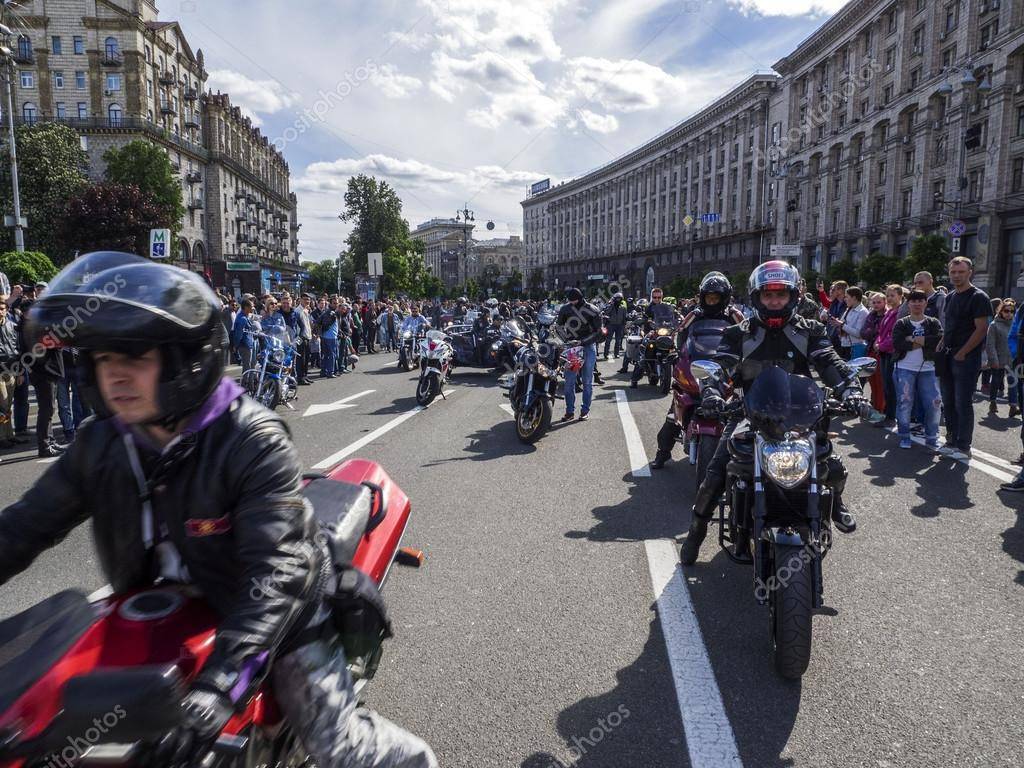helmet: (68, 271, 223, 395), (744, 263, 815, 332), (695, 276, 728, 312)
